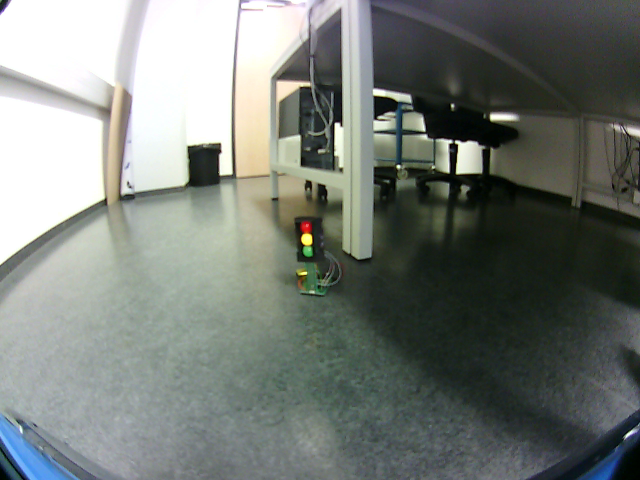red yellow trafficlight: (301, 219, 318, 262)
